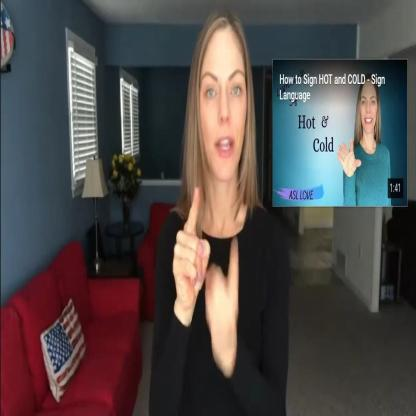NiceToMeetYou: (147, 3, 289, 416)
